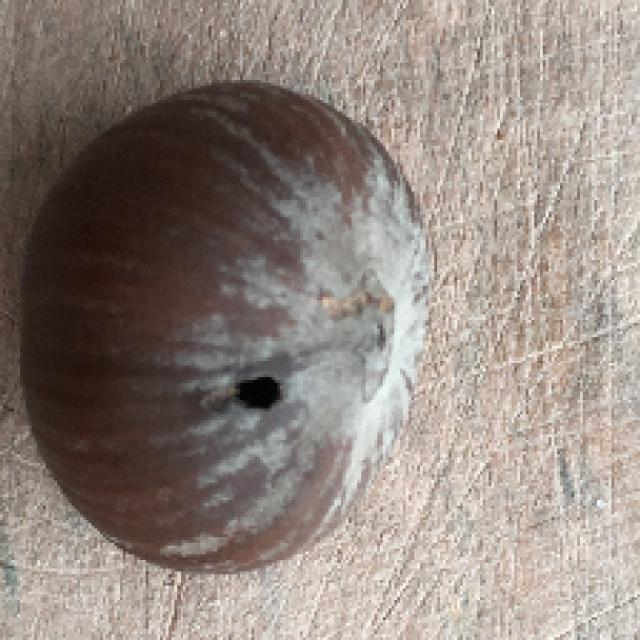damagedHazelnut: (26, 82, 433, 569)
